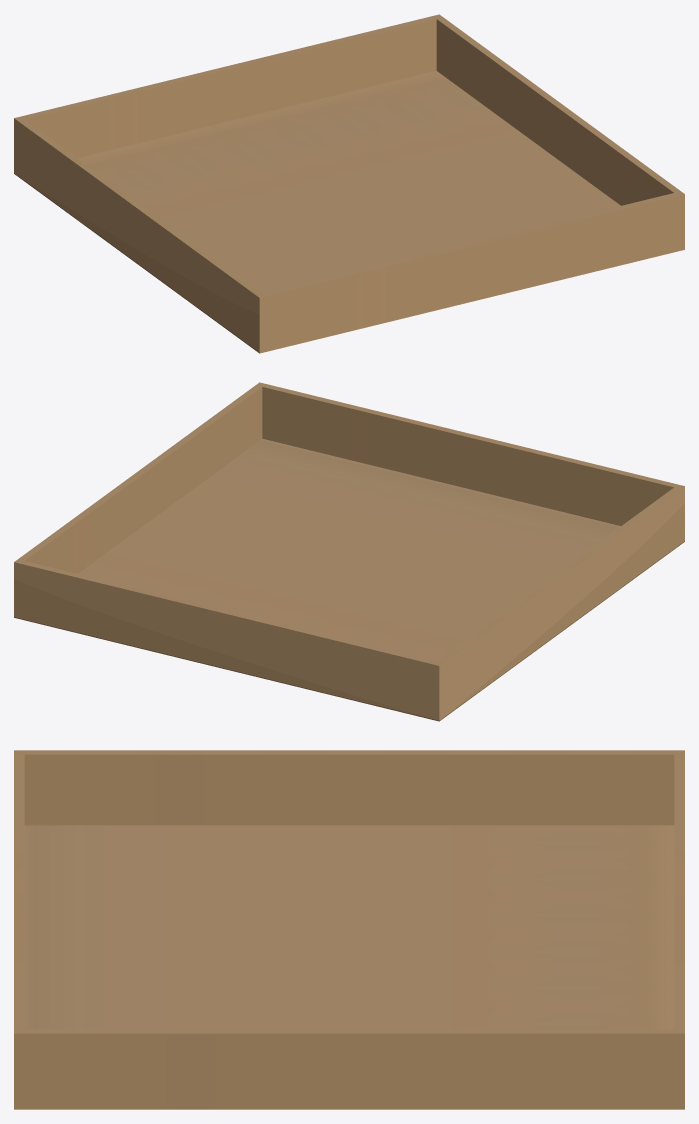
The picture shows the model from 3 angles, top to bottom: view 1: azimuth 30°, elevation 25°; view 2: azimuth 150°, elevation 25°; view 3: azimuth 270°, elevation 25°; orthographic projection. The views are drawn at different scales.
Visible parts, largest first — view 1: Cube; view 2: Cube; view 3: Cube.
Part boxes in pixels (x1,y1,x2,y2): Cube: [14, 14, 684, 353]; Cube: [14, 382, 684, 721]; Cube: [14, 750, 684, 1109].
Size of the model in its own units: 8 by 1 by 8.
1 material, 1 textured.
